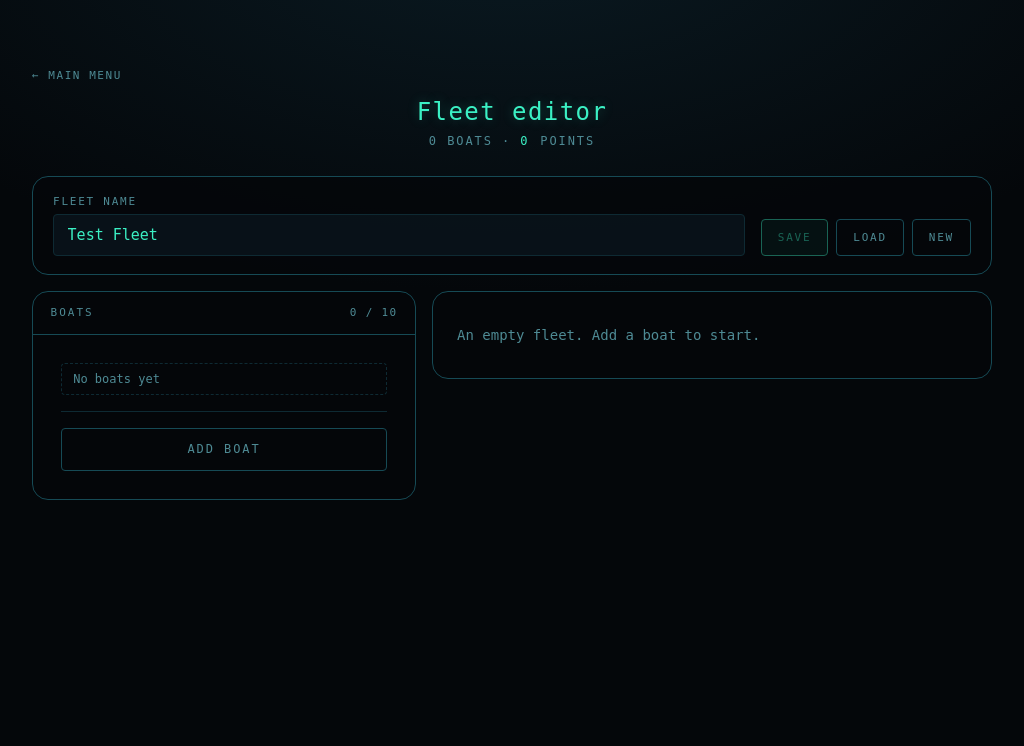
Test: slots › shows exactly the slots the hull declares
The image size is (1024, 746).
Click the button "ADD BOAT". click: [224, 449]
box: [61,428,387,471]
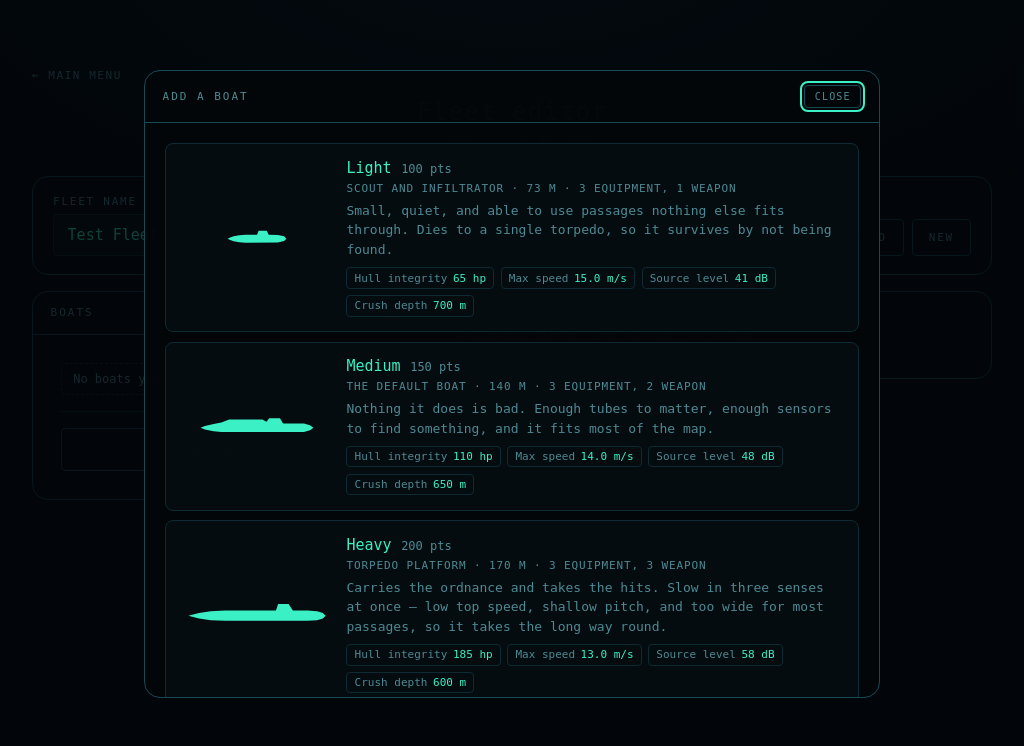
Click the button that starts with "Heavy". click: [512, 614]
box: [165,520,859,709]
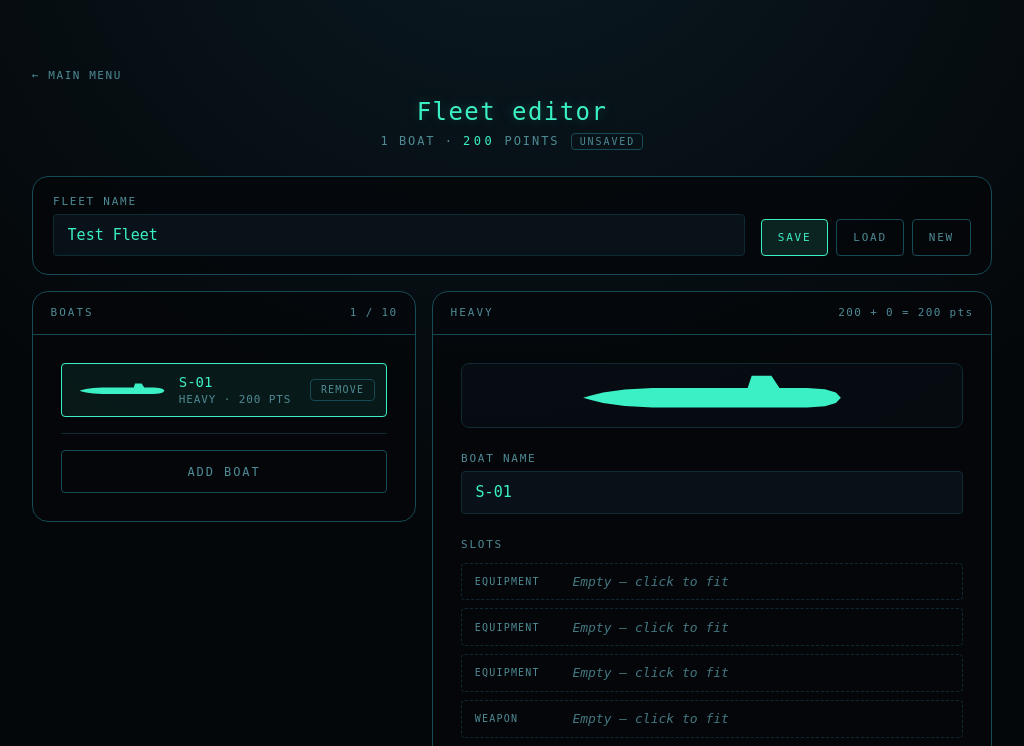
Now the number of buttons "Equipment Empty — click to fit" is 6
